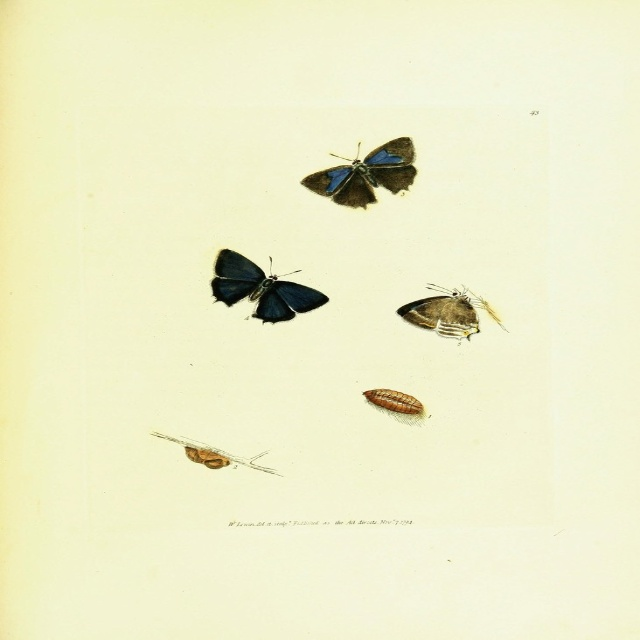Butterfly: (301, 130, 422, 218), (208, 249, 330, 328), (391, 283, 495, 345)
